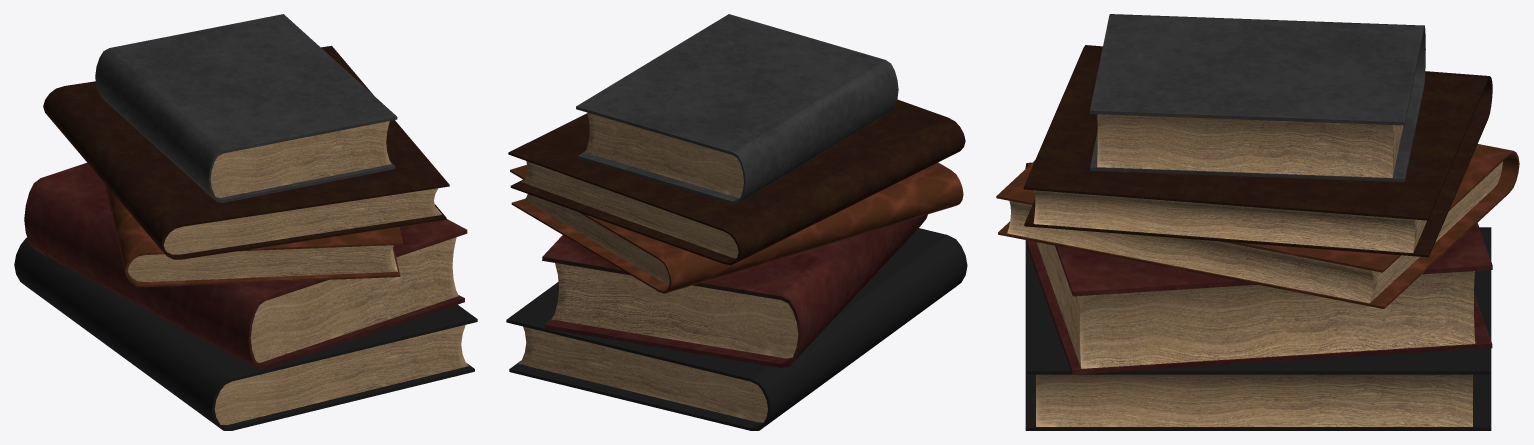
3 views of the same model, side by side, from view 1: azimuth 30°, elevation 25°; view 2: azimuth 150°, elevation 25°; view 3: azimuth 270°, elevation 25° (orthographic). The views are drawn at different scales.
Visible parts, largest first — view 1: cover004, cover003, cover001, cover, Paper001, Paper, Paper004, Paper003, Paper002, cover002; view 2: cover004, cover003, cover, cover001, Paper001, cover002, Paper, Paper004, Paper003, Paper002; view 3: cover004, Paper001, cover003, Paper, Paper004, cover, Paper003, Paper002, cover001, cover002.
Boxes of the visible parts, x1,y1,x2,y2 form: cover004: [95, 14, 397, 202]; cover003: [43, 46, 449, 259]; cover001: [24, 163, 467, 369]; cover: [14, 237, 477, 430]; Paper001: [250, 237, 458, 362]; Paper: [214, 325, 468, 424]; Paper004: [210, 121, 391, 197]; Paper003: [163, 188, 441, 254]; Paper002: [127, 245, 397, 281]; cover002: [105, 184, 403, 287]; cover004: [576, 14, 898, 204]; cover003: [508, 99, 965, 265]; cover: [506, 228, 967, 430]; cover001: [542, 214, 927, 367]; Paper001: [551, 263, 798, 358]; cover002: [510, 162, 963, 293]; Paper: [518, 326, 767, 422]; Paper004: [585, 112, 743, 197]; Paper003: [521, 161, 738, 258]; Paper002: [524, 194, 669, 285]; cover004: [1090, 14, 1425, 182]; Paper001: [1037, 242, 1475, 368]; cover003: [1023, 45, 1492, 257]; Paper: [1036, 374, 1472, 426]; Paper004: [1097, 114, 1403, 177]; cover: [1025, 227, 1491, 430]; Paper003: [1033, 190, 1426, 252]; Paper002: [1007, 161, 1502, 303]; cover001: [1025, 162, 1492, 374]; cover002: [996, 144, 1519, 308].
Size of the model in its own units: 1.82 by 1.23 by 2.
2 materials, 2 textured.
